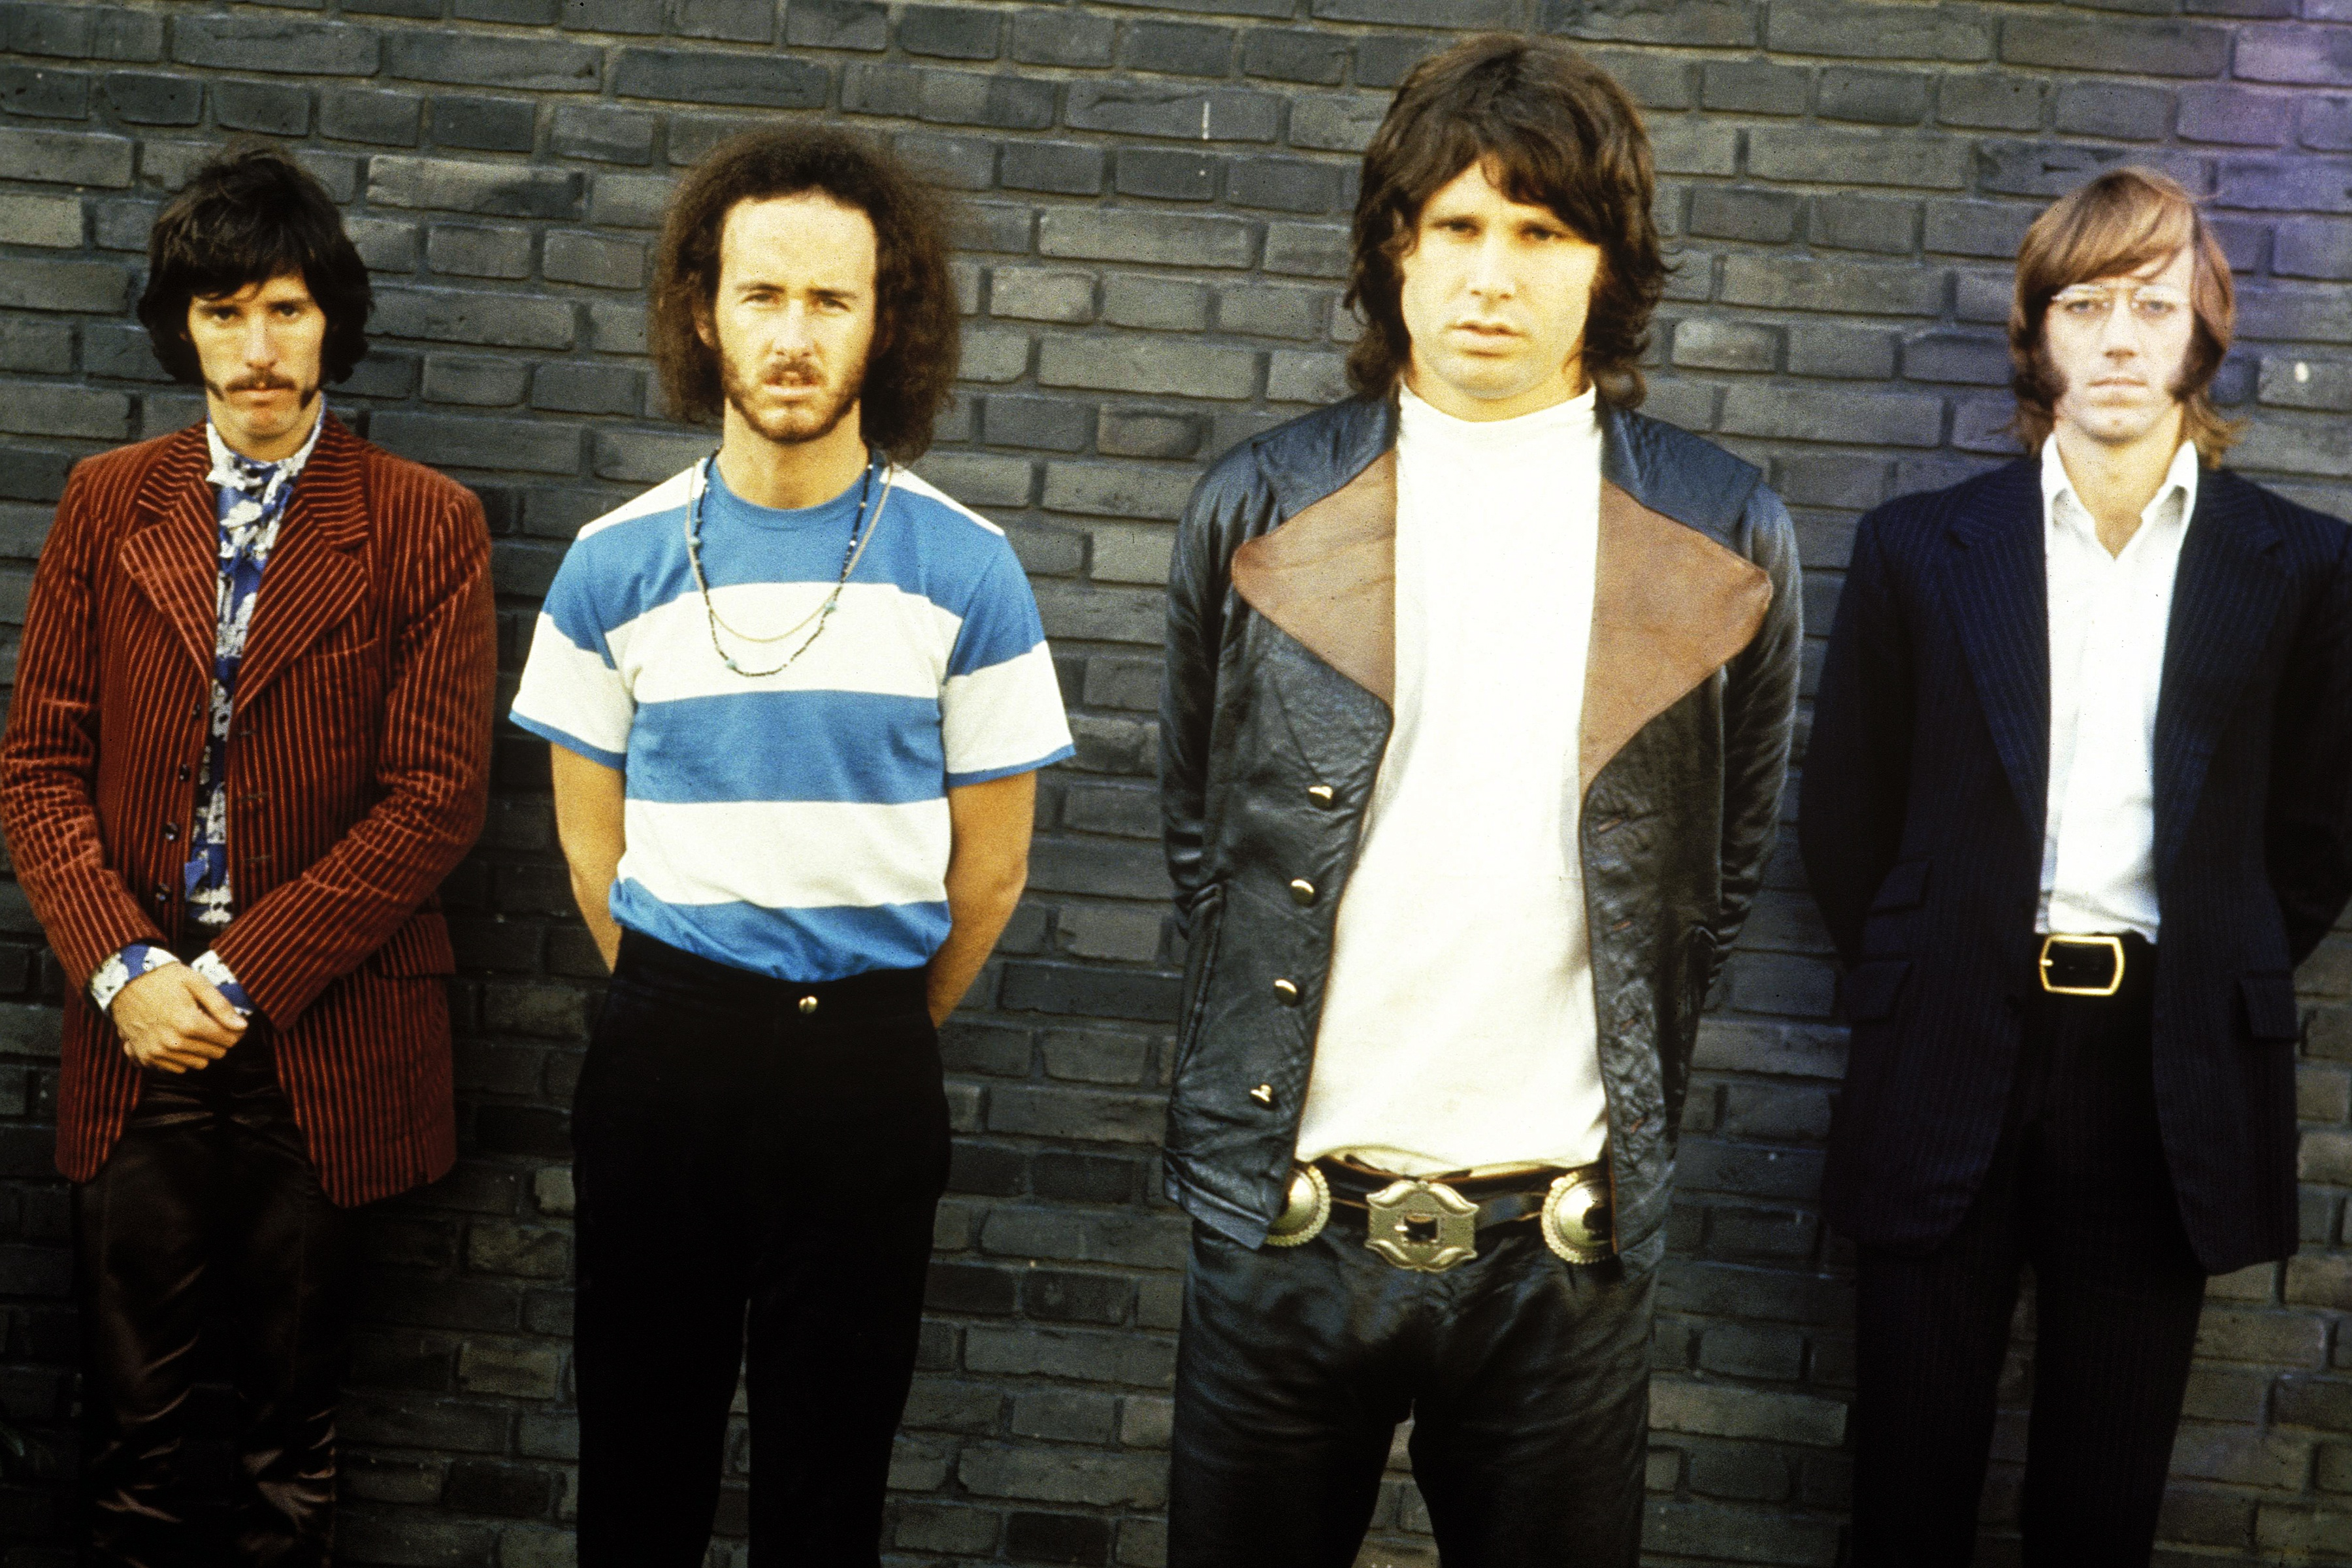bad: (1393, 180, 1601, 390), (714, 268, 889, 441), (2033, 268, 2208, 441), (170, 268, 345, 441), (243, 544, 268, 569)
